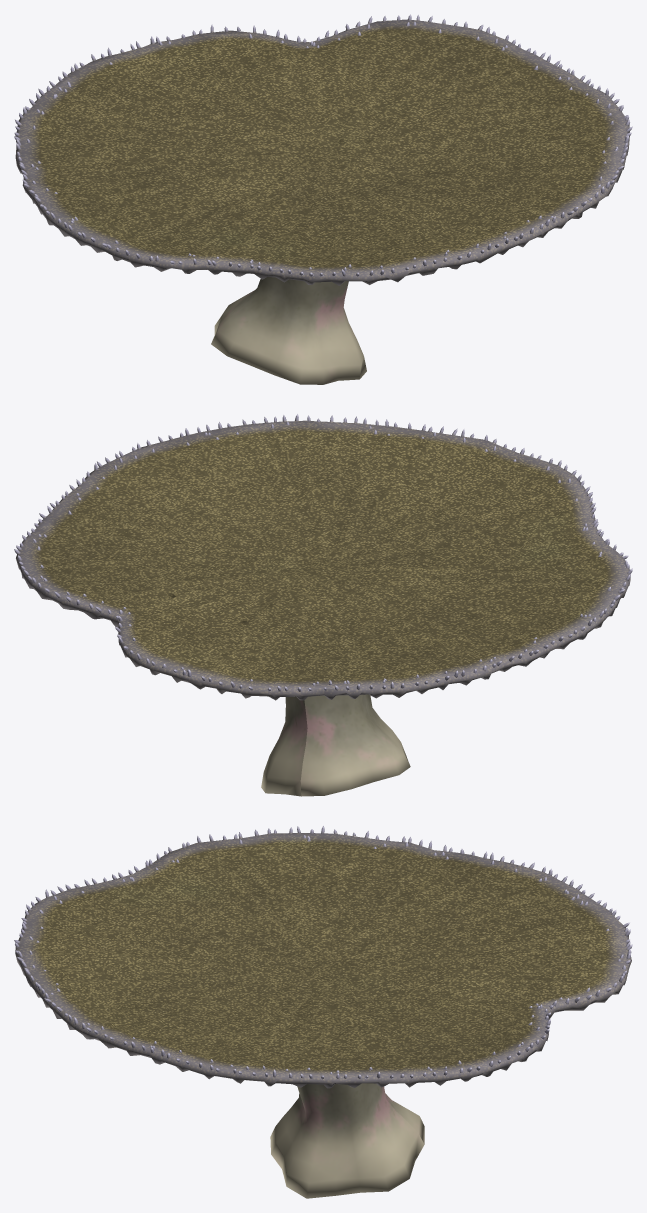
The model's file is Coral_Table_A.gltf.
The picture shows the model from 3 angles, top to bottom: view 1: azimuth 30°, elevation 25°; view 2: azimuth 150°, elevation 25°; view 3: azimuth 270°, elevation 25°; orthographic projection. The views are drawn at different scales.
Visible parts, largest first — view 1: Coral_Table_A; view 2: Coral_Table_A; view 3: Coral_Table_A.
Boxes of the visible parts, <box> form: Coral_Table_A: <box>14,14,632,384</box>; Coral_Table_A: <box>14,414,632,796</box>; Coral_Table_A: <box>14,826,632,1198</box>.
Bounding box in the file's own units: 1.6 × 0.6955 × 1.62.
1 material, 1 textured.
